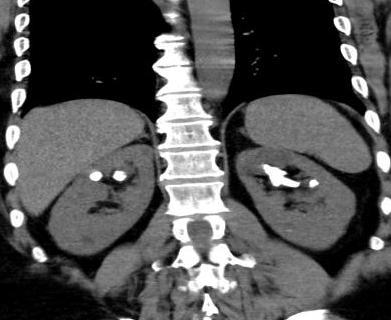Tas_Var: (262, 162, 302, 194), (110, 168, 130, 185), (86, 169, 105, 183), (308, 179, 320, 186), (308, 184, 316, 188)
